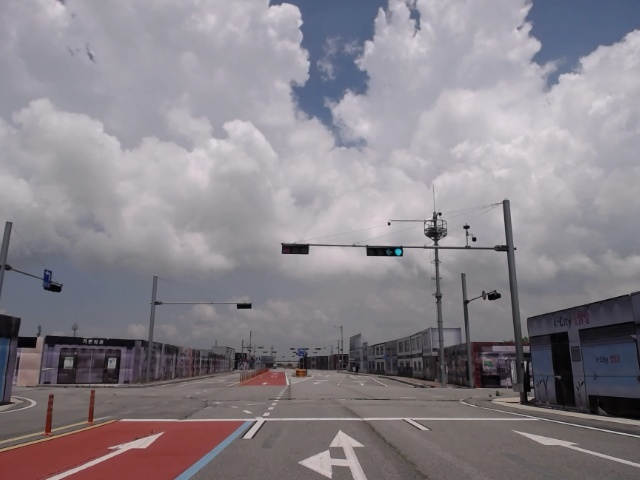all_green_4: (367, 245, 406, 258)
